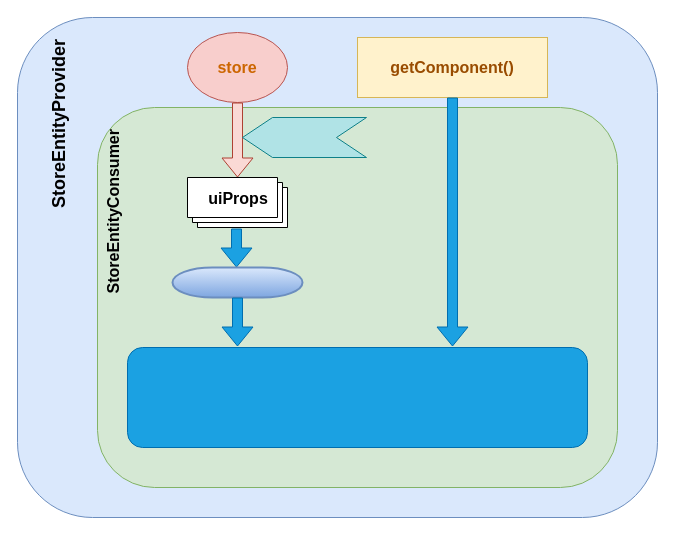
Image size: 675x535. Some labels were removed from this diagram. Each missing label, with the centre of its shape:
"selector, instanceId" belongs at point (304, 137).
"uiPropsInterceptor" belongs at point (237, 282).
